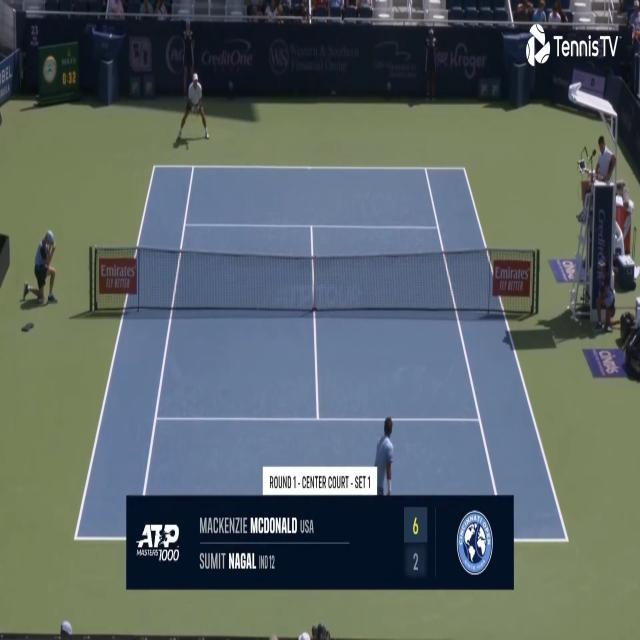tennis-player: (173, 69, 212, 152), (373, 413, 396, 498)
